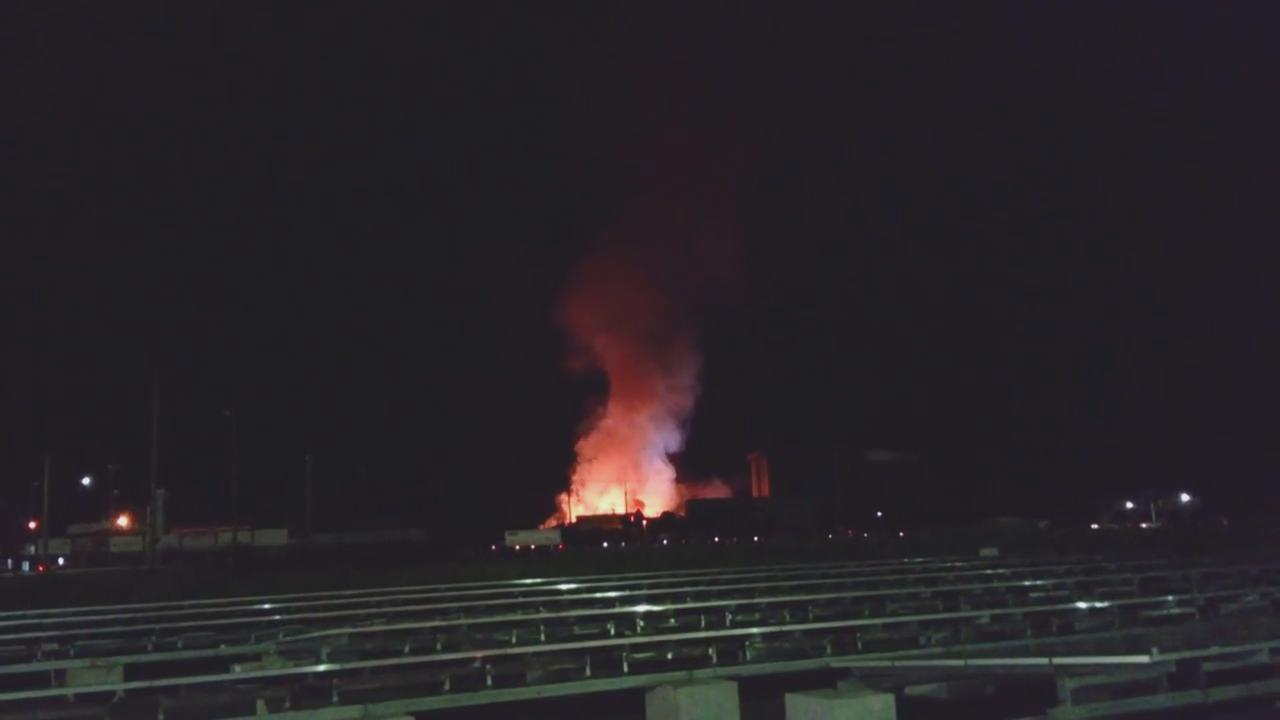Fire: (560, 488, 667, 519)
